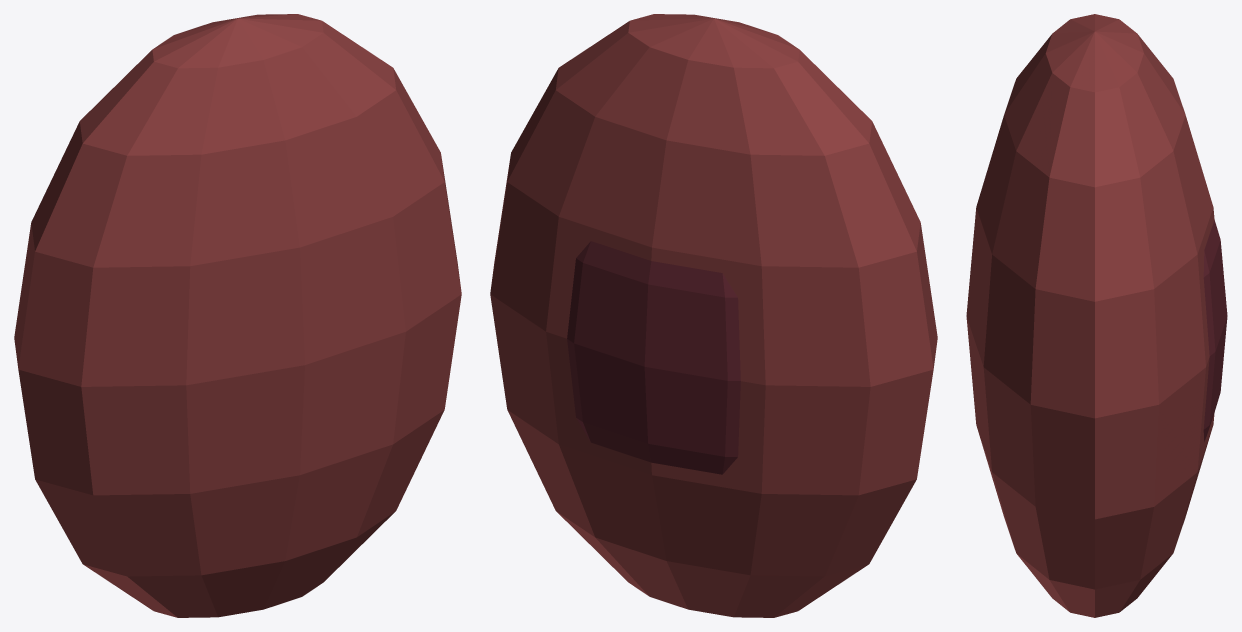
Rendered from mouth_o.glb.
The picture shows the model from 3 angles, left to right: view 1: azimuth 30°, elevation 25°; view 2: azimuth 150°, elevation 25°; view 3: azimuth 270°, elevation 25°; orthographic projection. The views are drawn at different scales.
Parts seen in each view (by area): view 1: Head; view 2: Head; view 3: Head.
Part boxes in pixels (left/top/right/bottom): Head: left=14, top=14, right=461, bottom=617; Head: left=490, top=14, right=937, bottom=617; Head: left=966, top=14, right=1227, bottom=617.
Bounding box in the file's own units: 0.068 × 0.088 × 0.0366.
